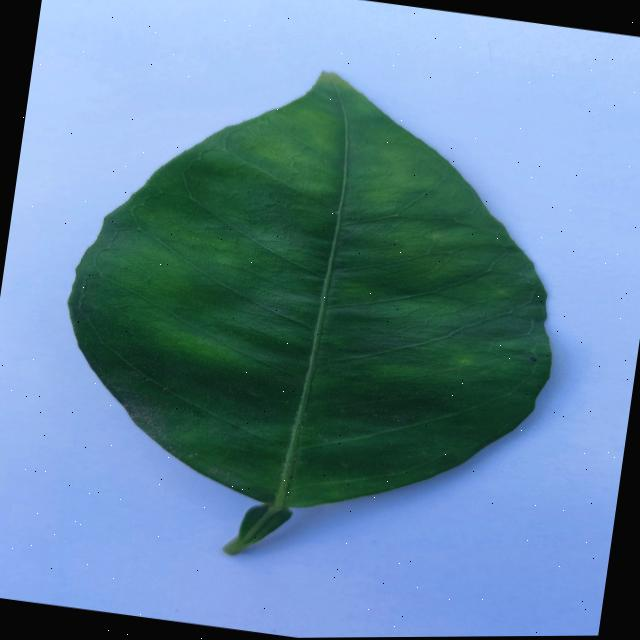greening: (69, 73, 551, 554)
